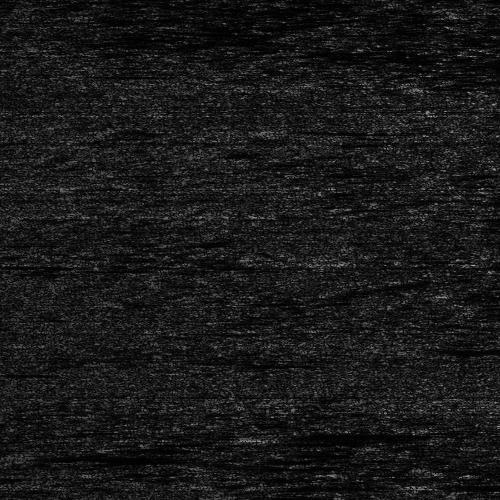object: (391, 477, 464, 492), (0, 450, 68, 461), (250, 428, 313, 439), (229, 126, 322, 133), (406, 345, 459, 352), (244, 482, 285, 487)
shadow: (26, 450, 182, 461), (282, 428, 415, 439), (428, 477, 500, 492), (276, 126, 418, 133), (265, 482, 369, 487), (433, 345, 500, 352), (238, 495, 315, 496)
